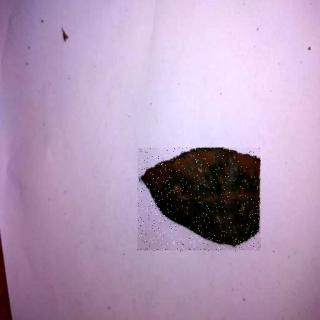Anthracnose: (139, 149, 262, 253)
